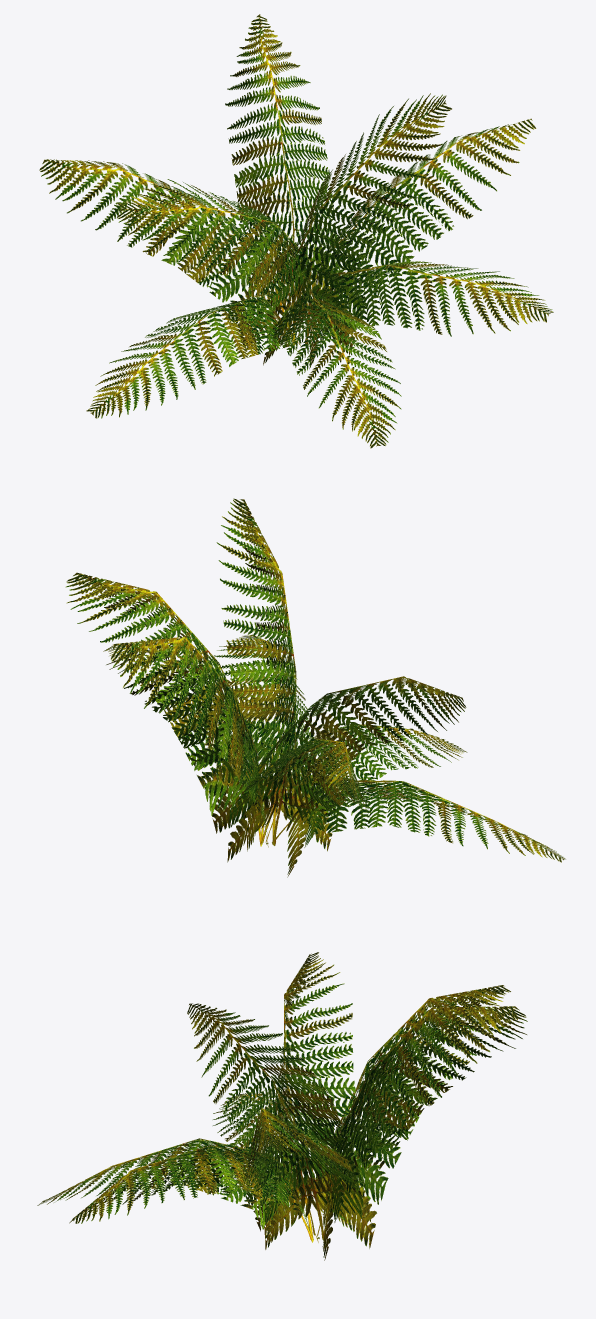
File: Fern_Vert_02.DAE
3 renders of one model, top to bottom at view 1: azimuth 30°, elevation 25°; view 2: azimuth 150°, elevation 25°; view 3: azimuth 270°, elevation 25°, orthographic. The views are drawn at different scales.
Parts seen in each view (by area): view 1: Fern02; view 2: Fern02; view 3: Fern02.
Part boxes in pixels (left/top/right/bottom): Fern02: left=39, top=14, right=553, bottom=448; Fern02: left=65, top=498, right=565, bottom=877; Fern02: left=37, top=952, right=527, bottom=1260.
Size of the model in its own units: 1.91 by 1.81 by 1.2.
